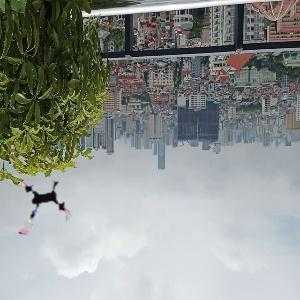drone: (7, 173, 76, 242)
